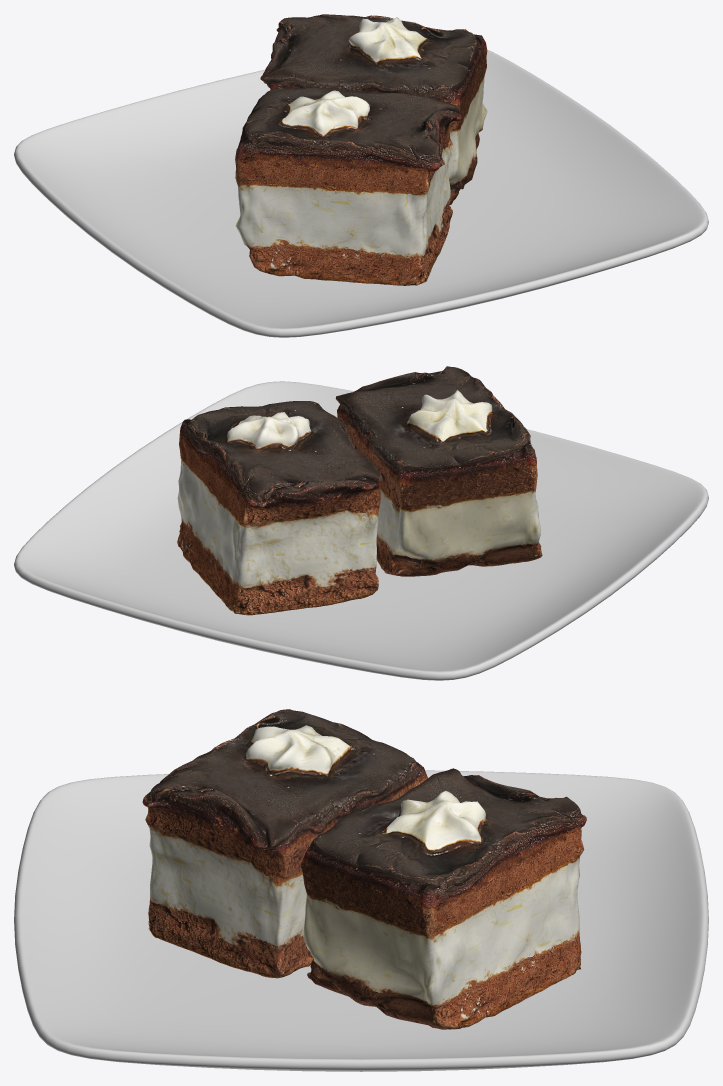
Rendered from cake3.glb.
3 renders of one model, top to bottom at view 1: azimuth 30°, elevation 25°; view 2: azimuth 150°, elevation 25°; view 3: azimuth 270°, elevation 25°, orthographic. The views are drawn at different scales.
Visible parts, largest first — view 1: cgaxis_models_56_50; view 2: cgaxis_models_56_50; view 3: cgaxis_models_56_50.
Part boxes in pixels (x1,y1,x2,y2): cgaxis_models_56_50: [14, 14, 708, 337]; cgaxis_models_56_50: [14, 366, 708, 680]; cgaxis_models_56_50: [14, 709, 708, 1071].
Bounding box in the file's own units: 0.0933 × 0.0302 × 0.0932.
Materials: 2 (1 with a texture image).
